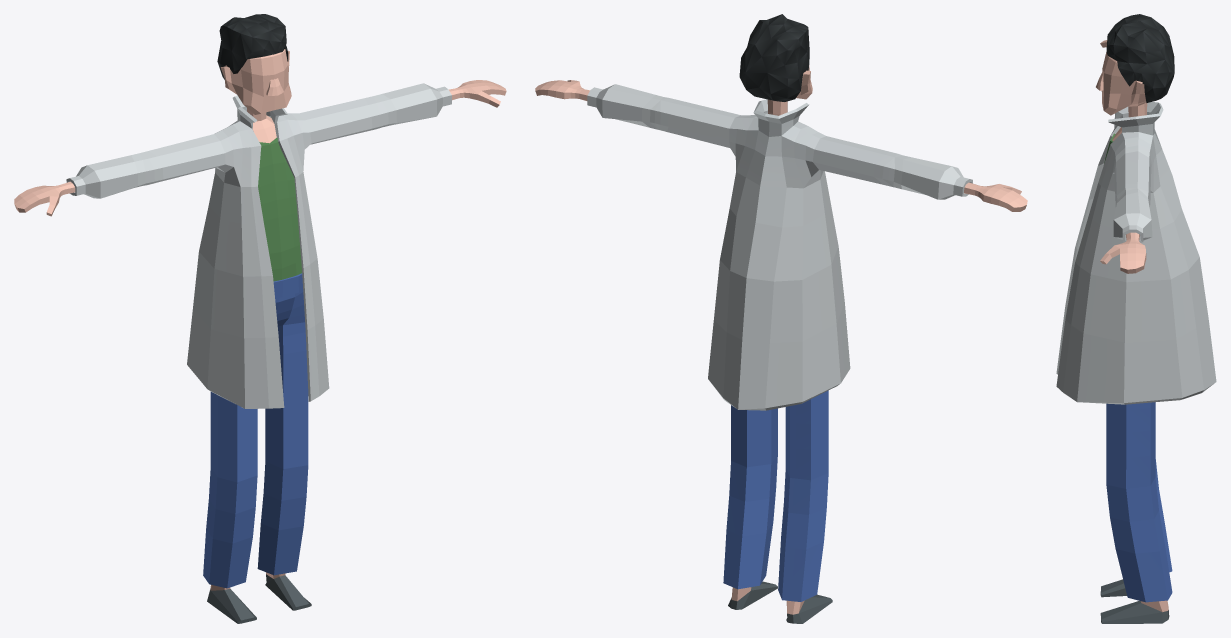
File: laborant_1.fbx
3 views of the same model, side by side, from view 1: azimuth 30°, elevation 25°; view 2: azimuth 150°, elevation 25°; view 3: azimuth 270°, elevation 25° (orthographic).
Parts seen in each view (by area): view 1: laborant.01; view 2: laborant.01; view 3: laborant.01.
Part boxes in pixels (bbox=[...]): laborant.01: bbox=[14, 14, 506, 623]; laborant.01: bbox=[535, 14, 1027, 623]; laborant.01: bbox=[1056, 14, 1216, 623].
Bounding box in the file's own units: 148 × 170 × 42.3.
